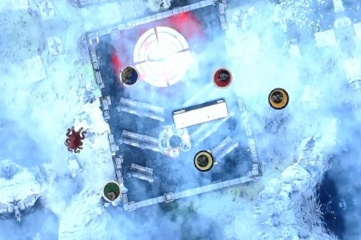blue: (117, 61, 144, 89)
giant_red_octopus: (58, 121, 91, 157)
green: (101, 177, 128, 205)
lime_green_violet: (189, 147, 217, 175)
red: (210, 63, 237, 91)
yellow_night_blue: (264, 85, 292, 113)
